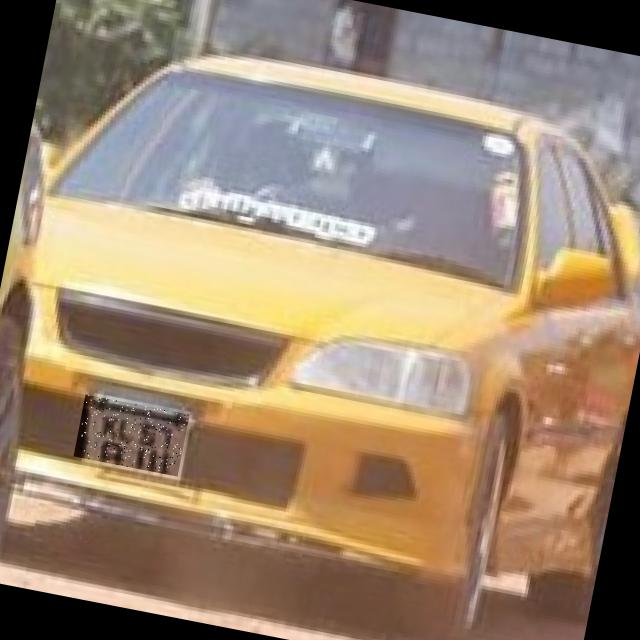Plate: (75, 396, 191, 478)
